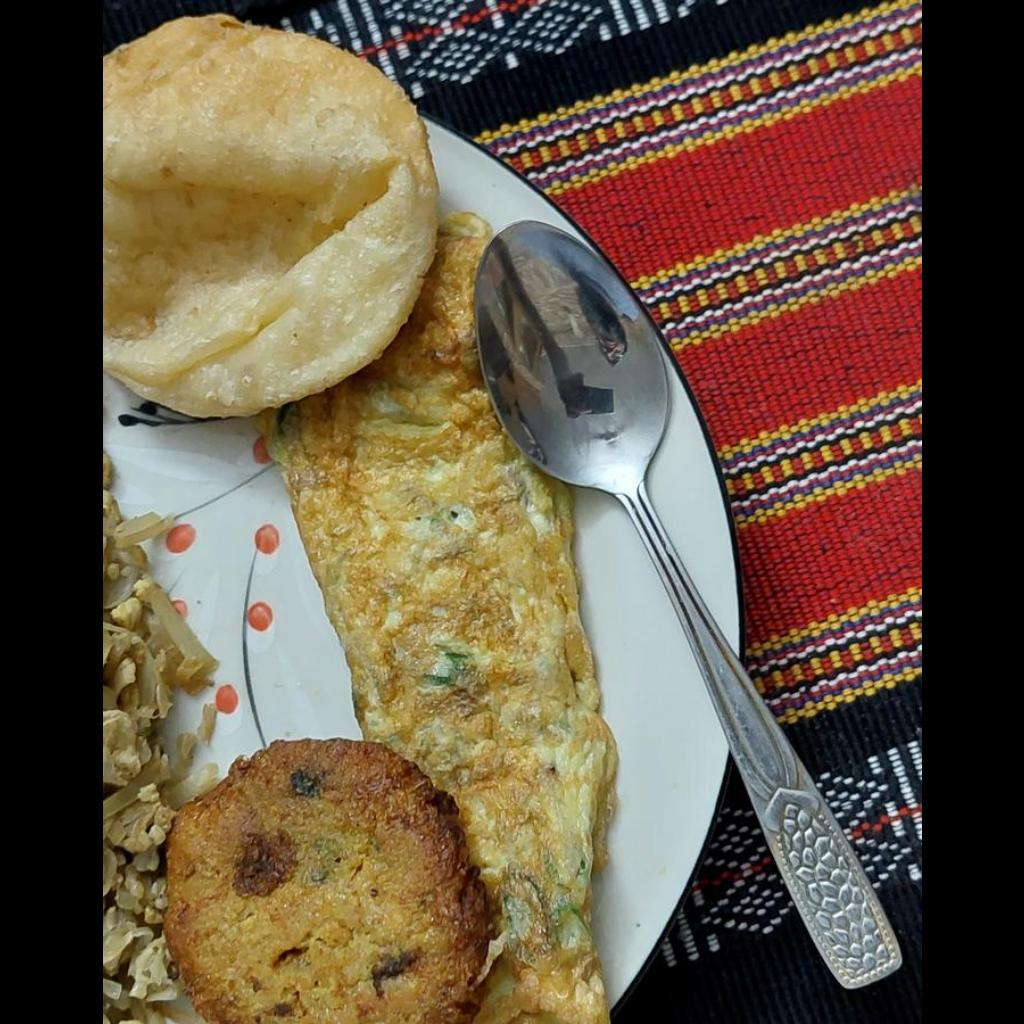egg-poached: (254, 215, 619, 1018)
kabab: (152, 743, 480, 1019)
puri: (102, 15, 439, 412)
vaji: (103, 459, 225, 1022)
